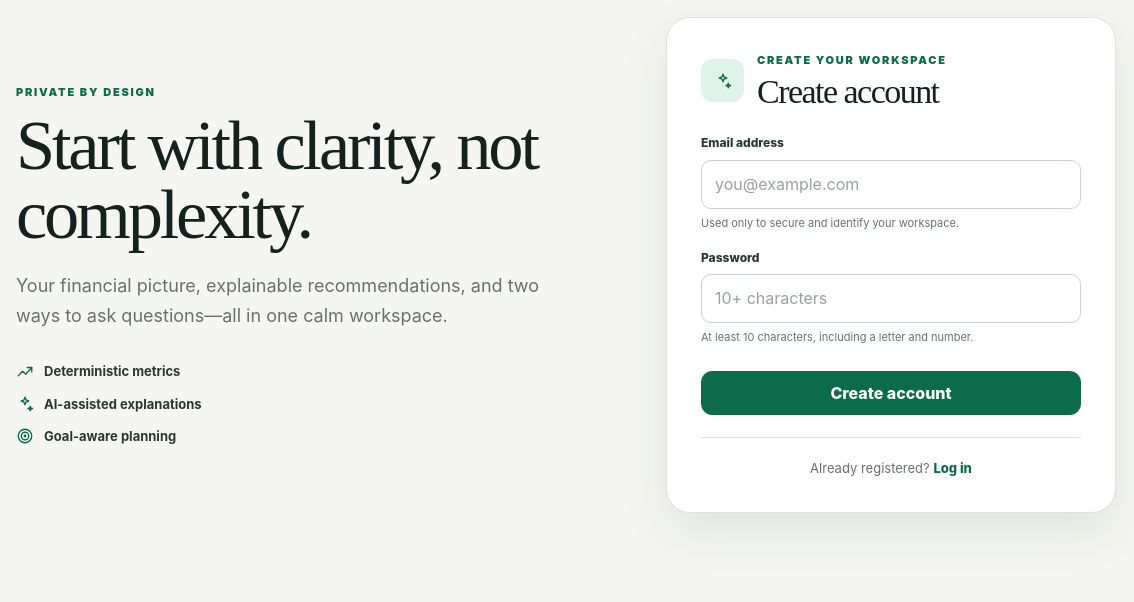
AuthForm › gives useful feedback for a weak registration password
Type "user@example.com" into the field labelled "Email address" at (891, 184), box left=701, top=160, right=1081, bottom=209
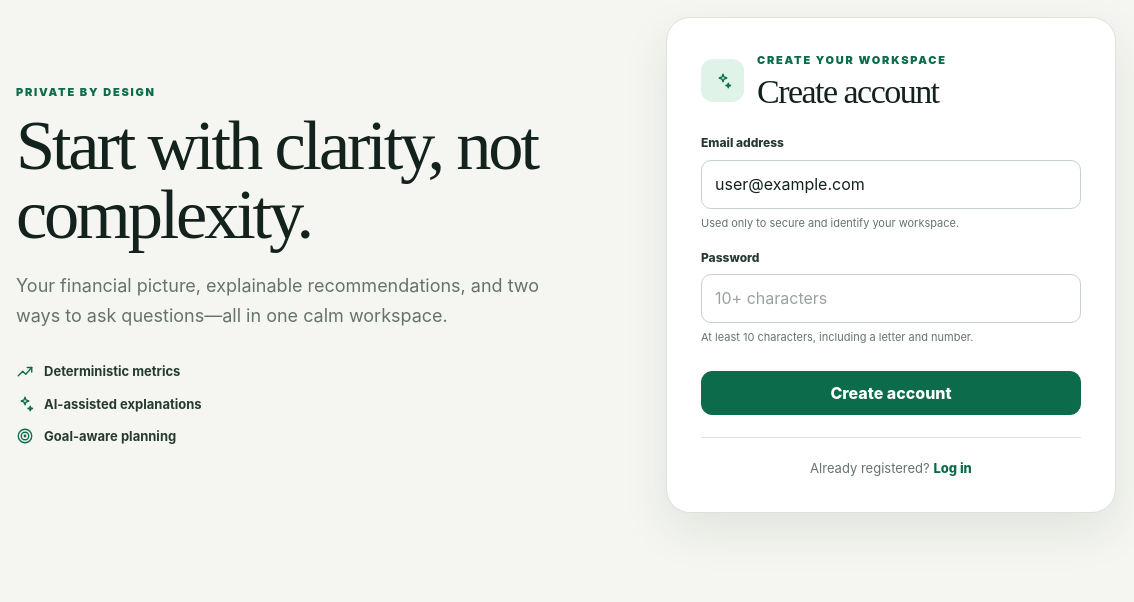
Type "abcdefghij" into the password field labelled "Password" at (891, 299), box left=701, top=274, right=1081, bottom=323
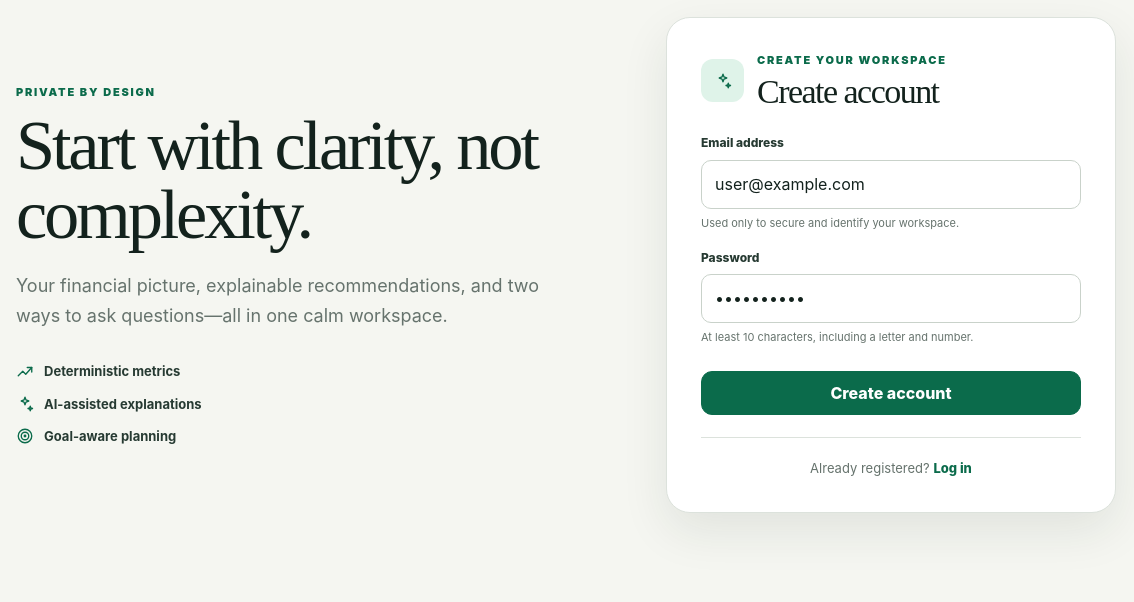
Click the button "Create account" at (891, 393), box left=701, top=371, right=1081, bottom=415
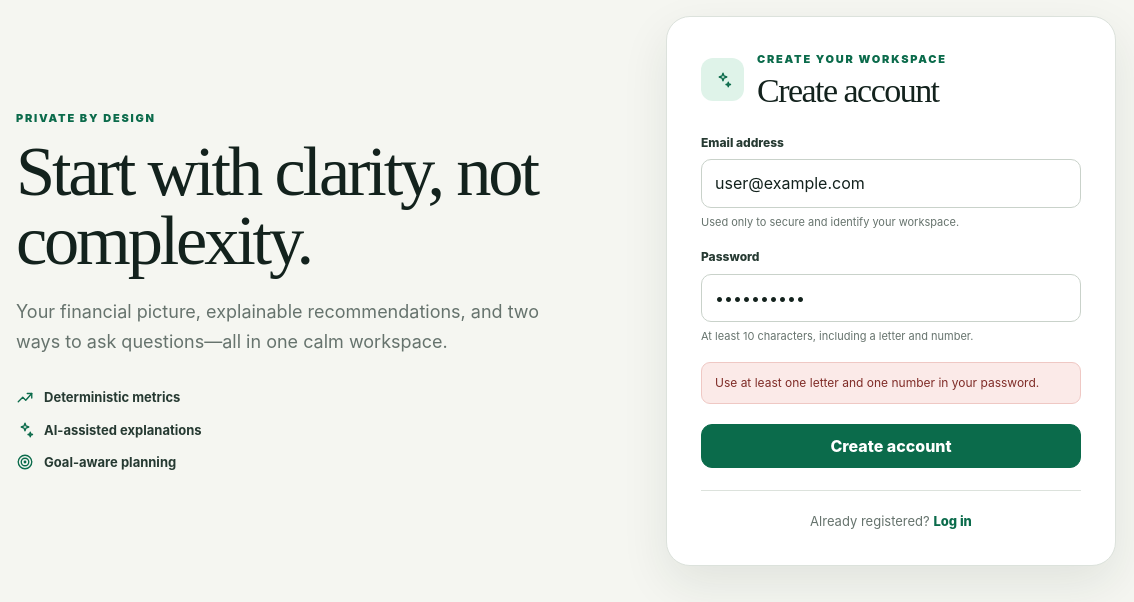
Check: the message shows "one letter and one number", box left=715, top=375, right=1039, bottom=390
